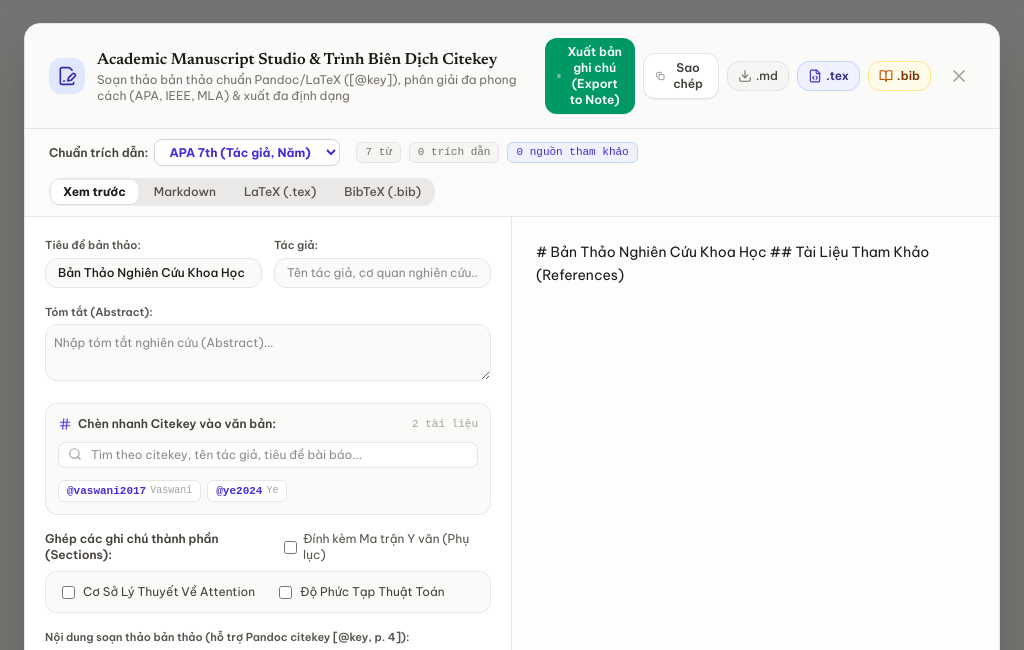
Scenario: Phase 9B: Academic Manuscript Studio UI Integration › 4. Bật/tắt các section ghi chú và tùy chọn đính kèm ma trận tổng quan y văn ở phụ lục
The image size is (1024, 650).
# Check note-1 checkbox
Click the checkbox with test id "manuscript-section-checkbox-note-1". click: {"x": 68, "y": 592}
box: [62, 586, 75, 598]
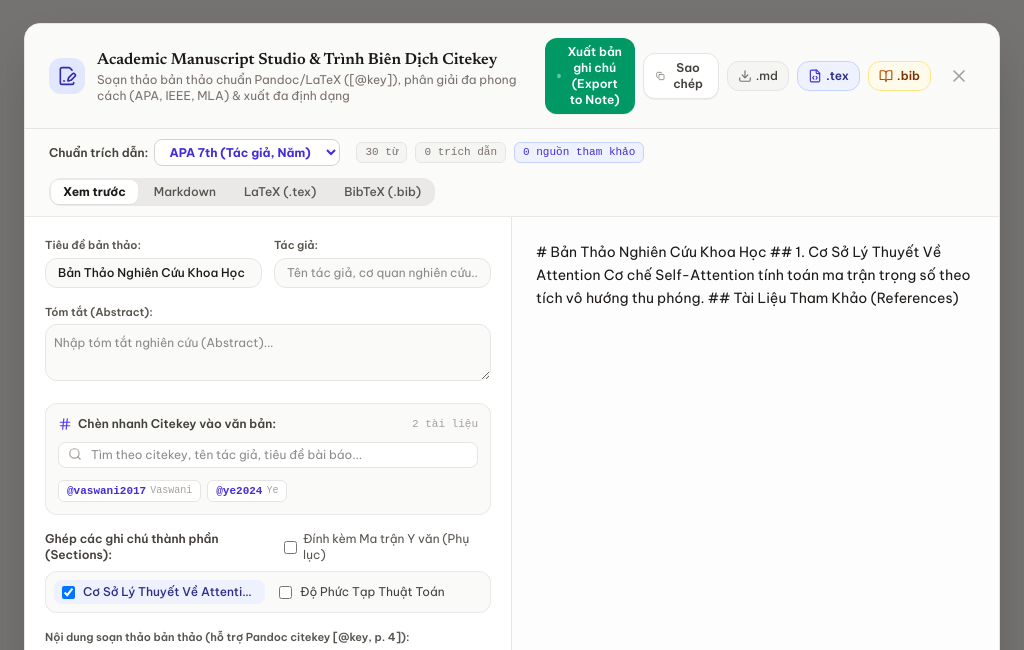
Expected: the element with test id "manuscript-compiled-preview" shows "Cơ Sở Lý Thuyết Về Attention", [536, 243, 970, 306]
Expected: the element with test id "manuscript-compiled-preview" shows "Cơ chế Self-Attention tính toán ma trận trọng số", [536, 243, 970, 306]
# Toggle Matrix Appendix checkbox
Click the checkbox with test id "manuscript-include-matrix-checkbox". click: {"x": 290, "y": 547}
box: [284, 540, 297, 554]
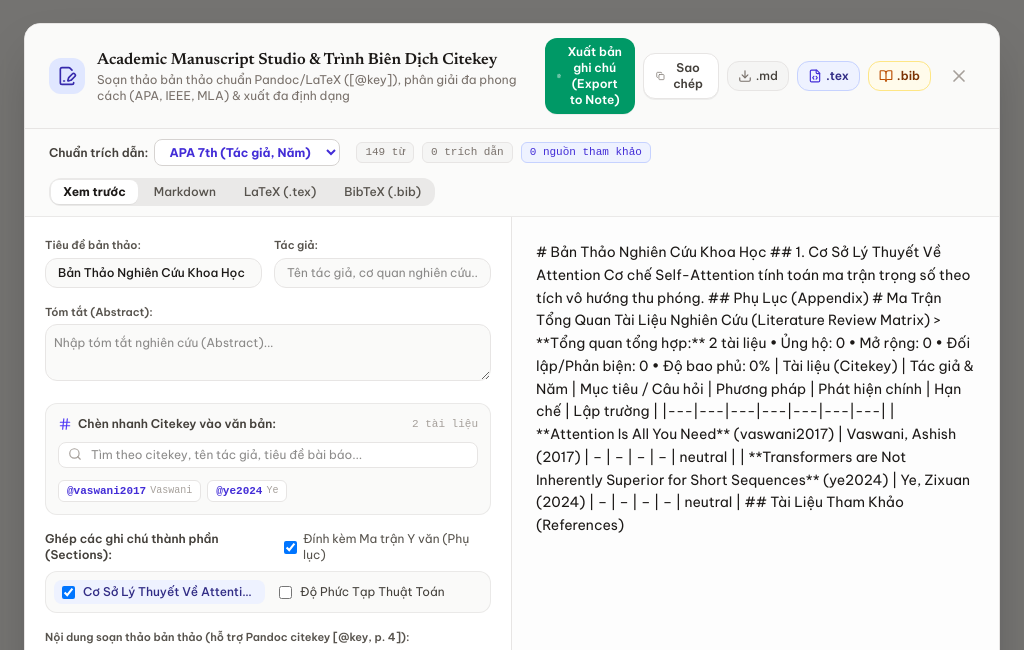
Expected: the element with test id "manuscript-compiled-preview" shows "Phụ Lục (Appendix)", [536, 243, 974, 534]
Expected: the element with test id "manuscript-compiled-preview" shows "Ma Trận Tổng Quan Tài Liệu", [536, 243, 974, 534]
